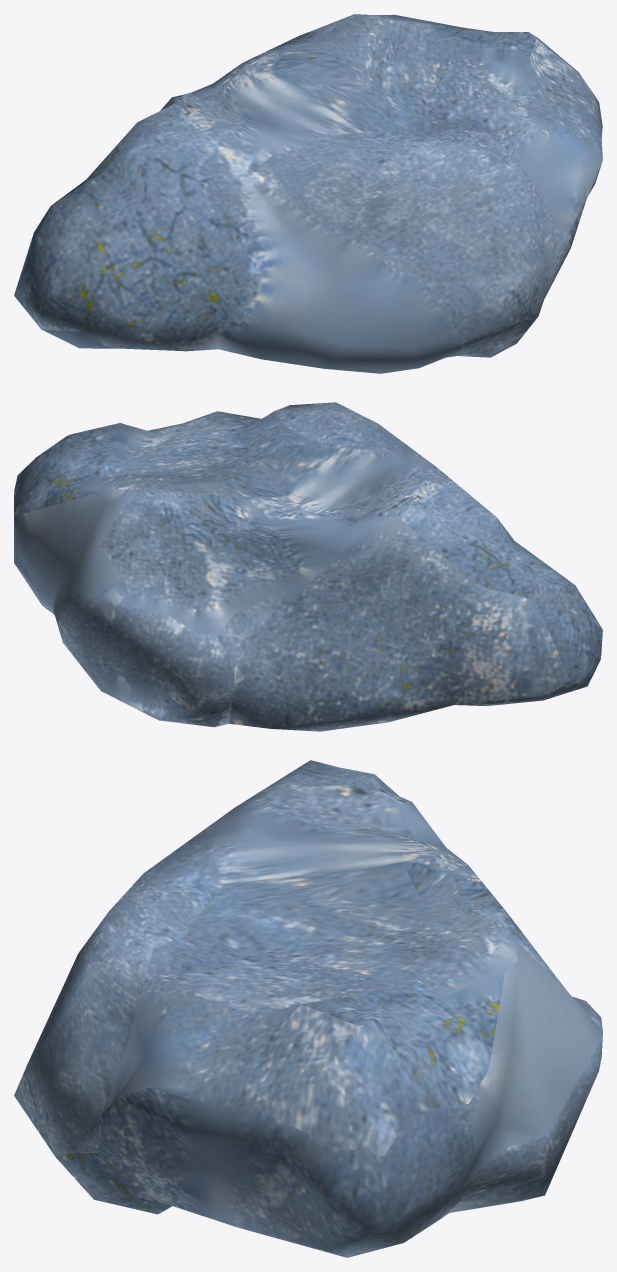
Rendered from piece2.glb.
3 renders of one model, top to bottom at view 1: azimuth 30°, elevation 25°; view 2: azimuth 150°, elevation 25°; view 3: azimuth 270°, elevation 25°, orthographic. The views are drawn at different scales.
Parts seen in each view (by area): view 1: Aset_nature_rock_S_wdcbcds_00_LOD3; view 2: Aset_nature_rock_S_wdcbcds_00_LOD3; view 3: Aset_nature_rock_S_wdcbcds_00_LOD3.
Boxes of the visible parts, left/top/right/bottom form: Aset_nature_rock_S_wdcbcds_00_LOD3: left=14, top=14, right=602, bottom=373; Aset_nature_rock_S_wdcbcds_00_LOD3: left=14, top=402, right=602, bottom=731; Aset_nature_rock_S_wdcbcds_00_LOD3: left=14, top=760, right=602, bottom=1257.
Size of the model in its own units: 0.8784 by 0.3293 by 0.6143.
Materials: 1 (1 with a texture image).
